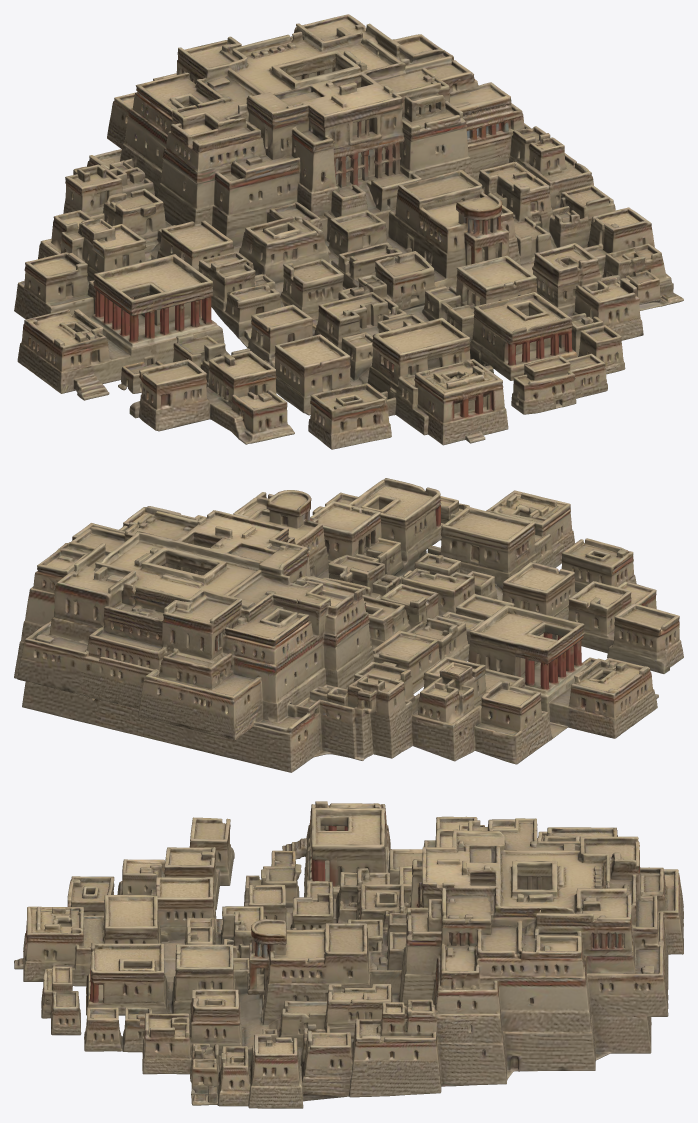
Rendered from Ancient City (Greco-Roman).fbx.
3 views of the same model, one above another, from view 1: azimuth 30°, elevation 25°; view 2: azimuth 150°, elevation 25°; view 3: azimuth 270°, elevation 25° (orthographic). The views are drawn at different scales.
Parts seen in each view (by area): view 1: tripo_node_c778a4ea; view 2: tripo_node_c778a4ea; view 3: tripo_node_c778a4ea.
Part boxes in pixels (<box>): tripo_node_c778a4ea: <box>14,14,683,449</box>; tripo_node_c778a4ea: <box>14,478,683,772</box>; tripo_node_c778a4ea: <box>14,801,683,1108</box>.
Bounding box in the file's own units: 0.9391 × 0.2513 × 1.
